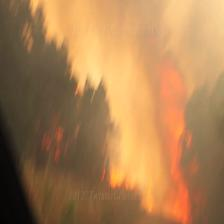fire: (40, 50, 224, 224)
